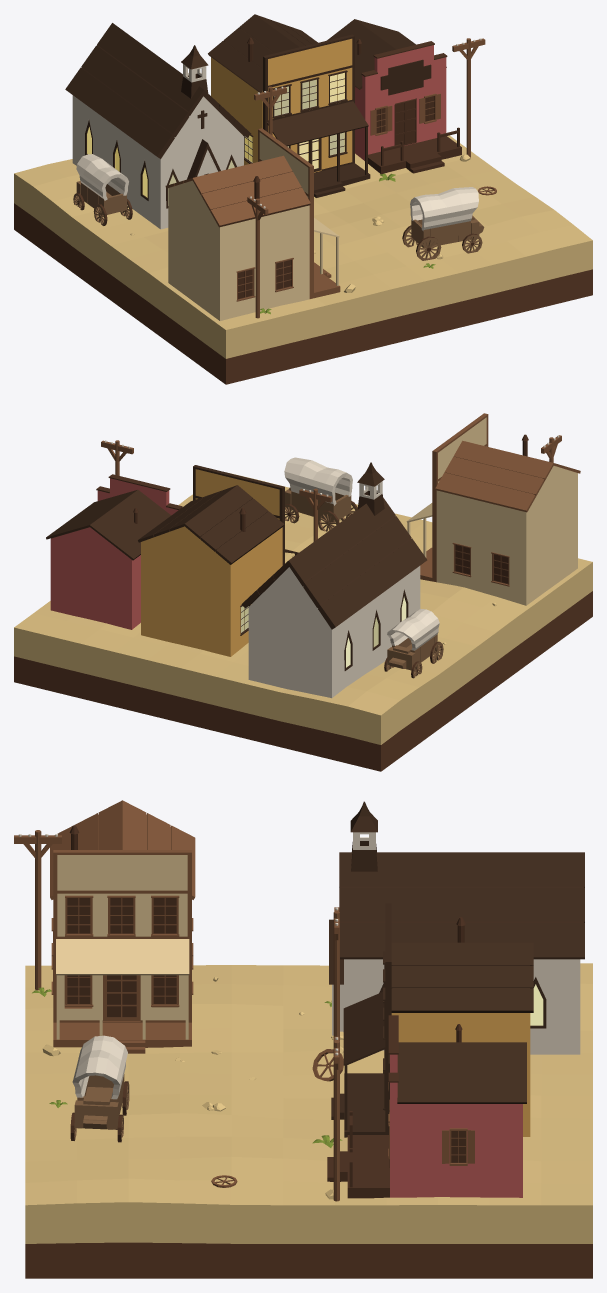
The model's file is town.glb.
The picture shows the model from 3 angles, top to bottom: view 1: azimuth 30°, elevation 25°; view 2: azimuth 150°, elevation 25°; view 3: azimuth 270°, elevation 25°; orthographic projection. The views are drawn at different scales.
Parts seen in each view (by area): view 1: Plane.001, Cube.006, Plane.006, Cube.005, Plane.002, Circle.003, Circle.004, Plane.013, Plane.014, Plane.024; view 2: Plane.001, Plane.006, Cube.006, Cube.005, Plane.002, Circle.003, Circle.004, Plane.024; view 3: Plane.001, Cube.006, Plane.006, Plane.002, Cube.005, Circle.003, Plane.014, Plane.013, Plane.024.
Boxes of the visible parts, x1,y1,x2,y2 form: Plane.001: (14,135,592,384); Cube.006: (165,128,340,320); Plane.006: (65,23,251,229); Cube.005: (208,14,370,197); Plane.002: (327,19,461,174); Circle.003: (402,187,484,260); Circle.004: (73,154,132,225); Plane.013: (452,38,485,157); Plane.014: (247,196,268,318); Plane.024: (254,86,286,135); Plane.001: (14,473,592,771); Plane.006: (241,462,427,698); Cube.006: (406,413,580,605); Cube.005: (138,465,298,656); Plane.002: (46,474,182,629); Circle.003: (284,457,357,531); Circle.004: (384,609,443,678); Plane.024: (299,488,332,541); Plane.001: (25,963,592,1278); Cube.006: (50,800,195,1053); Plane.006: (329,801,584,1054); Plane.002: (327,1015,526,1198); Cube.005: (331,903,533,1137); Circle.003: (70,1035,129,1142); Plane.014: (14,830,61,990); Plane.013: (333,1036,339,1201); Plane.024: (333,907,339,1041).
Size of the model in its own units: 8.35 by 4.79 by 8.35.
